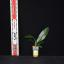leaf: (37, 27, 49, 43), (25, 35, 36, 46), (29, 40, 35, 47), (36, 41, 45, 45), (36, 45, 42, 48), (35, 39, 37, 43)
